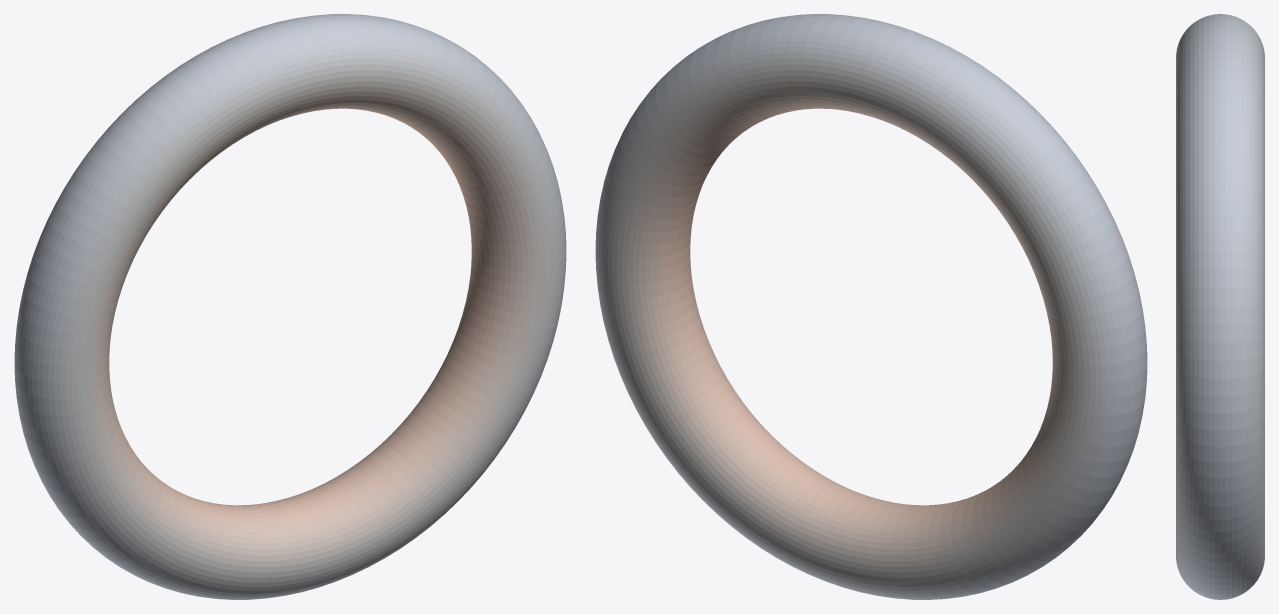
3 renders of one model, left to right at view 1: azimuth 30°, elevation 25°; view 2: azimuth 150°, elevation 25°; view 3: azimuth 270°, elevation 25°, orthographic. The views are drawn at different scales.
Parts seen in each view (by area): view 1: world; view 2: world; view 3: world.
Part boxes in pixels (box(x1,y1,x2,y2)): world: box(14, 14, 566, 599); world: box(595, 14, 1147, 599); world: box(1176, 14, 1264, 599).
Size of the model in its own units: 30.67 by 30.67 by 4.66.
